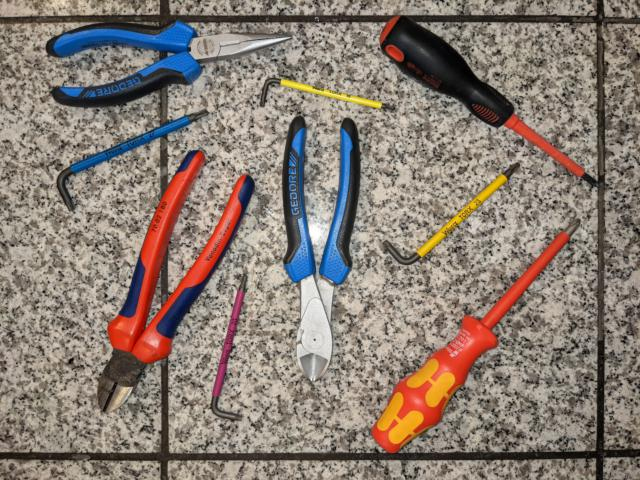Inbusschlüssel: (53, 106, 210, 213), (379, 159, 523, 268), (207, 272, 251, 424), (256, 73, 400, 115)
Schraubendreher: (364, 213, 583, 459), (375, 9, 607, 193)
Seitenschneider: (92, 145, 259, 418), (276, 110, 363, 387)
Zange: (44, 18, 297, 109)
